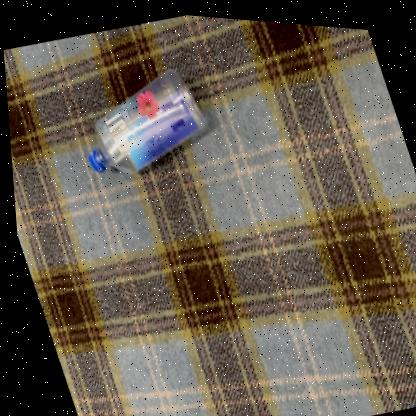Plastic: (86, 64, 204, 170)
